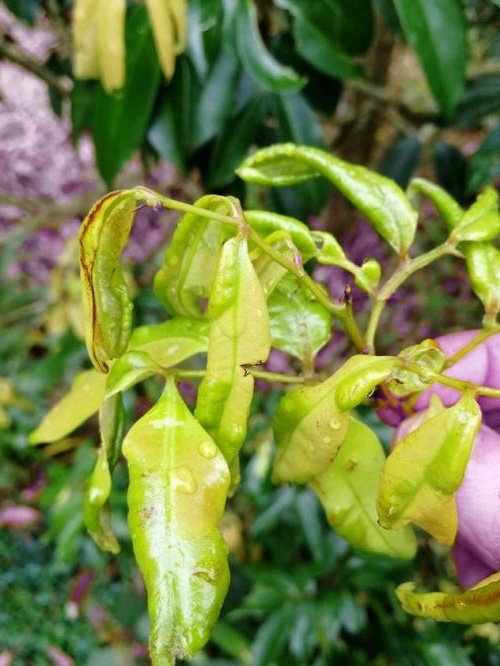Gall_Mite: (152, 194, 280, 341), (292, 349, 402, 482), (154, 445, 233, 596), (68, 199, 127, 359)
